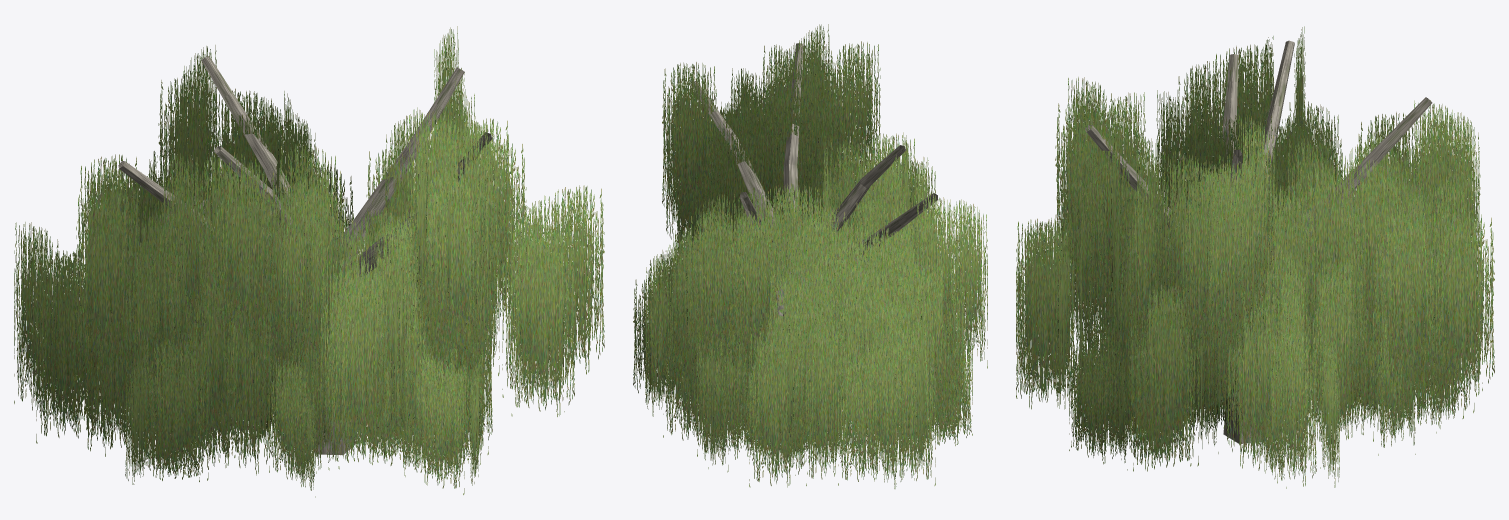
The model's file is Tree_Willow_1_LOD1.gltf.
3 views of the same model, side by side, from view 1: azimuth 30°, elevation 25°; view 2: azimuth 150°, elevation 25°; view 3: azimuth 270°, elevation 25° (orthographic). The views are drawn at different scales.
Parts seen in each view (by area): view 1: Tree_Willow_1_LOD1; view 2: Tree_Willow_1_LOD1; view 3: Tree_Willow_1_LOD1.
Part boxes in pixels (x1,y1,x2,y2): Tree_Willow_1_LOD1: (14,26,604,497); Tree_Willow_1_LOD1: (633,24,987,488); Tree_Willow_1_LOD1: (1016,26,1494,488).
Size of the model in its own units: 12.88 by 11.54 by 13.18.
2 materials, 2 textured.
